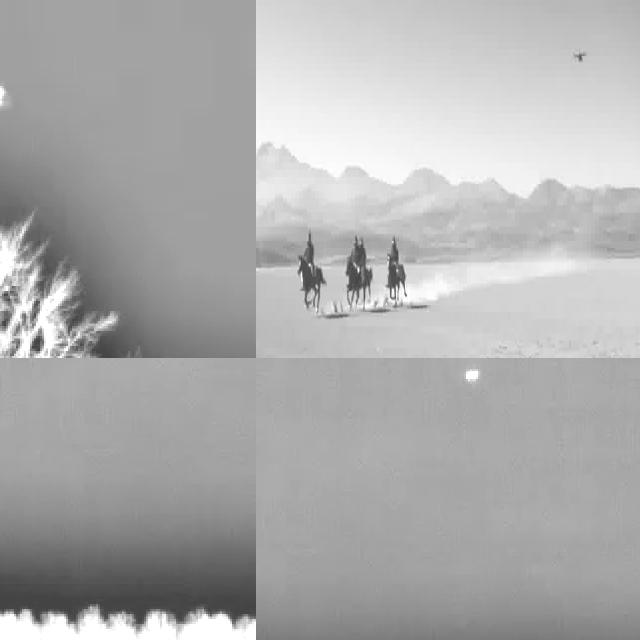0: (0, 68, 14, 115)
1: (460, 365, 484, 388)
drone: (570, 42, 589, 76)
